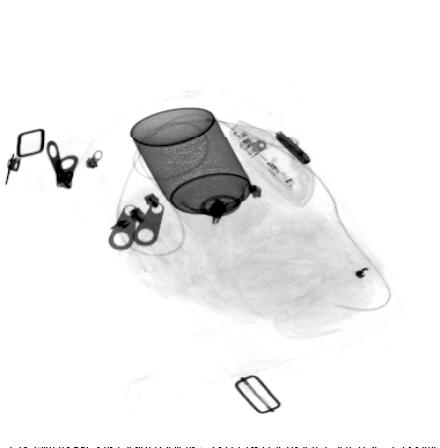Sprayer: (128, 105, 270, 244)
